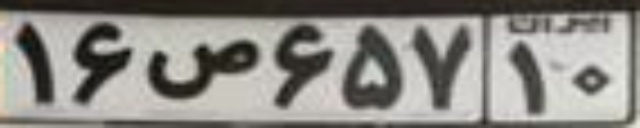0: (569, 65, 613, 96)
1: (10, 25, 52, 103), (506, 41, 546, 113)
5: (342, 24, 403, 108)
6: (63, 21, 133, 102), (272, 25, 331, 106)
7: (411, 23, 484, 110)
sin: (147, 39, 257, 99)
